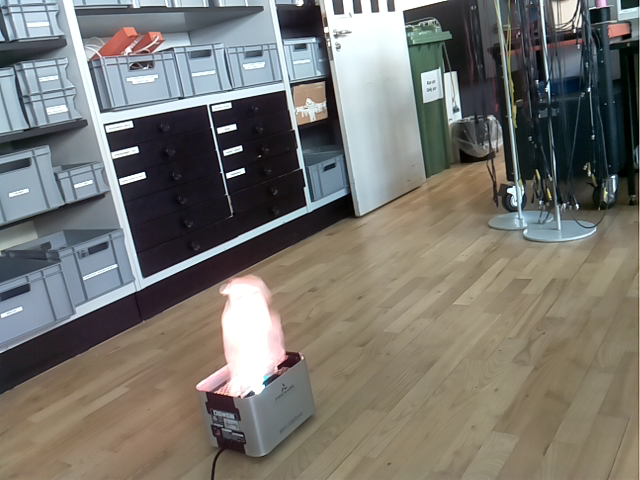fire: (219, 273, 288, 396)
